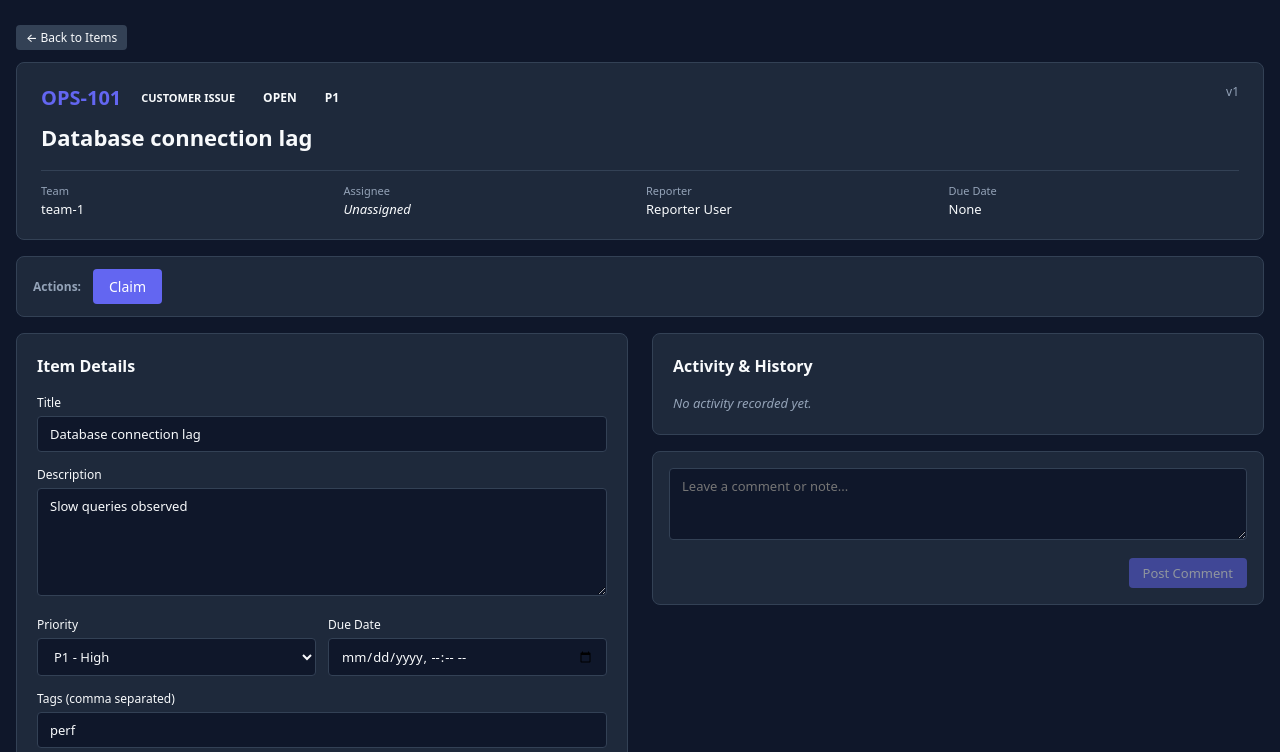
Test case: optimistic-claim › shows assignee immediately on claim, and rolls back to server item showing winner on 409 already_claimed
Expected: the text "OPS-101" is shown, [41,83,121,113]
Expected: the text "Unassigned" is shown, [344,200,411,218]
Step 1. Click the button "Claim" → (128,286), box [93,269,162,304]
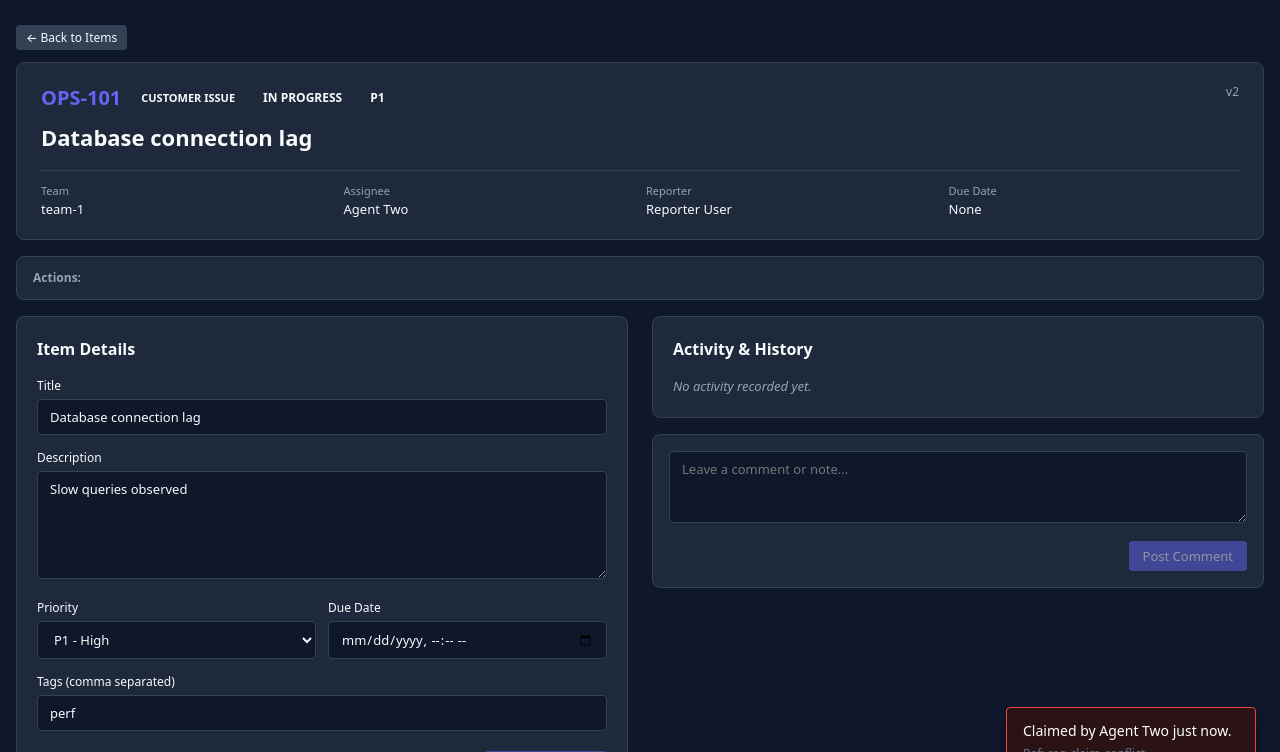
Now the text "Agent Two" is shown, box [344,200,408,218]
Now the text "Claimed by Agent Two just now." is shown, box [1023,720,1239,741]
